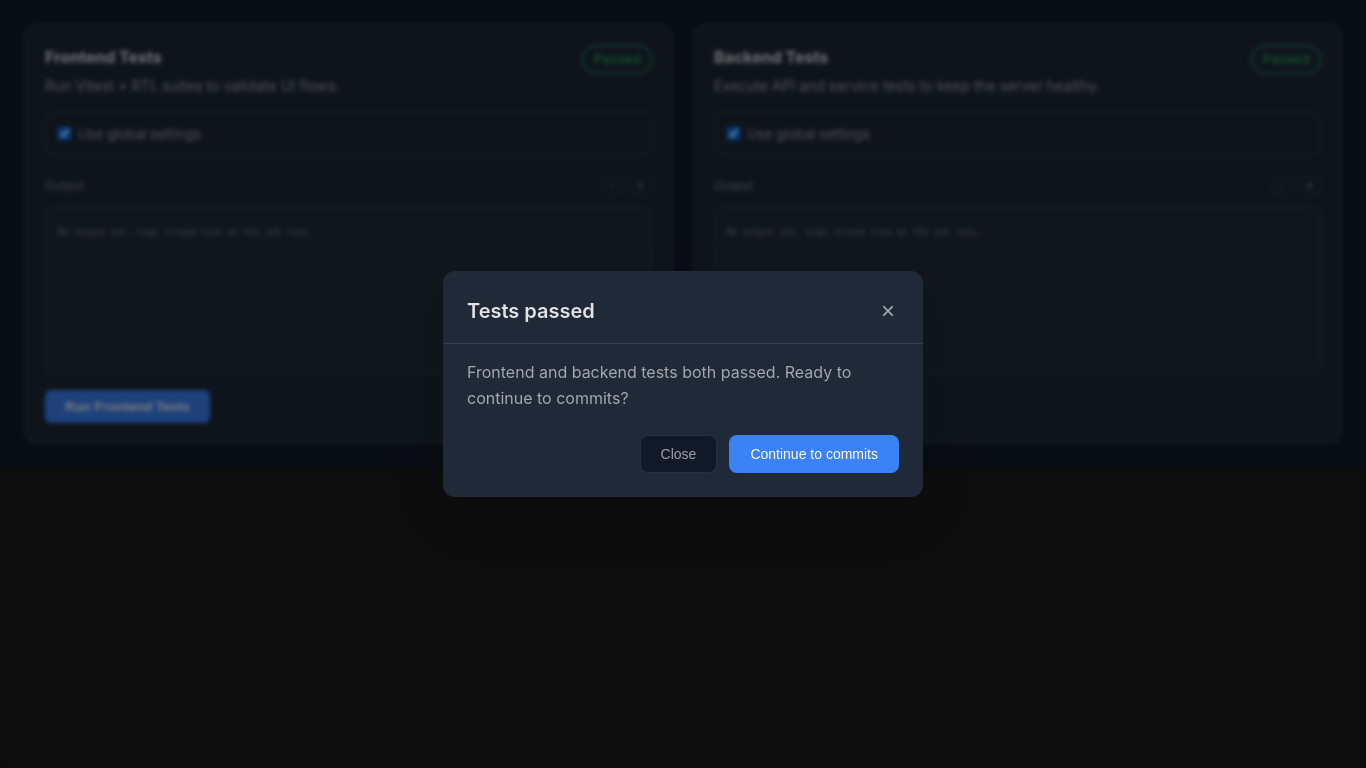
TestTab › surfaces commit-failed modal when continue-to-commits flow throws message-only error
This screenshot has width=1366, height=768.
Check: the element with test id "modal-content" is shown, box [443,271,923,497]
Click the button with test id "modal-confirm" at (814, 454), box [729,435,899,473]
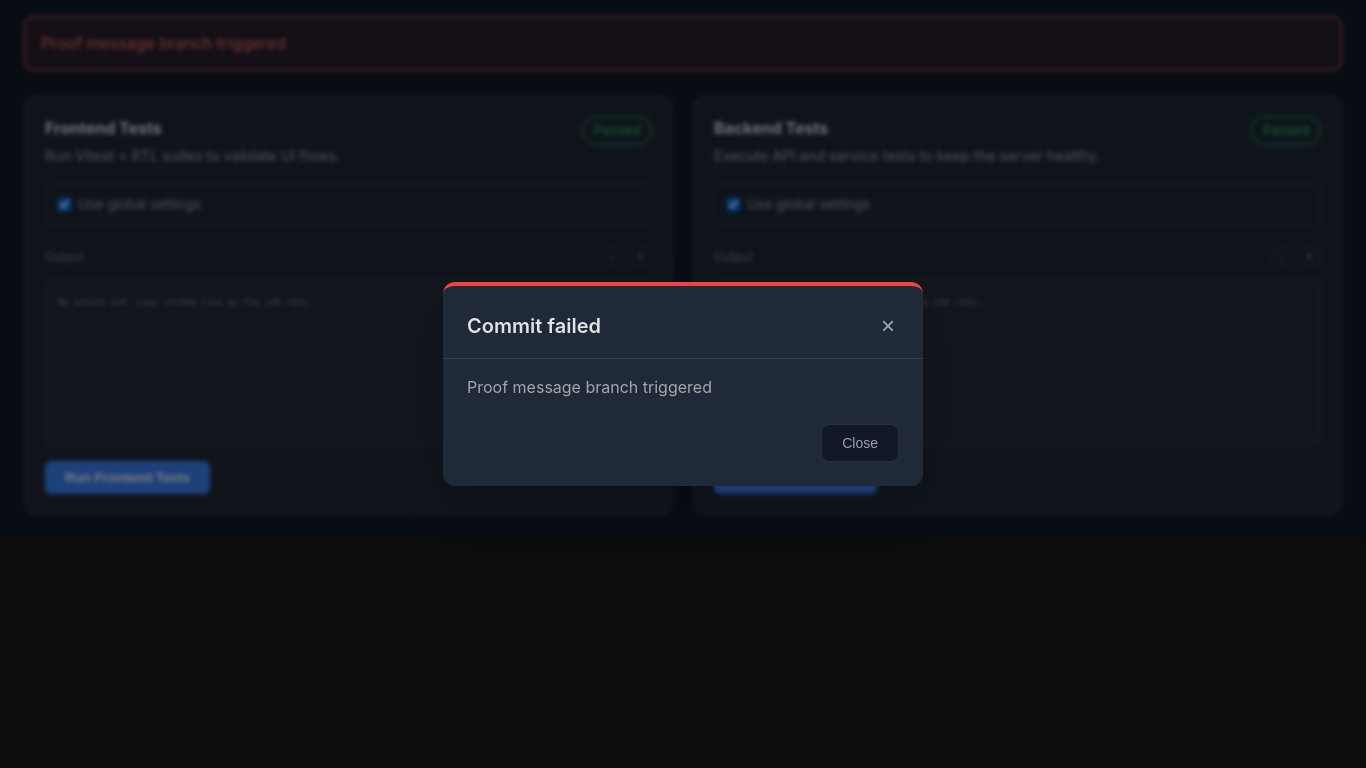
Check: the heading "Commit failed" is shown, box [467,311,601,341]
Check: the text "Proof message branch triggered" is shown, box [467,377,712,397]
